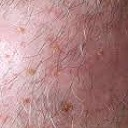Actinic: (58, 99, 76, 119), (17, 21, 30, 34), (26, 65, 40, 76)
